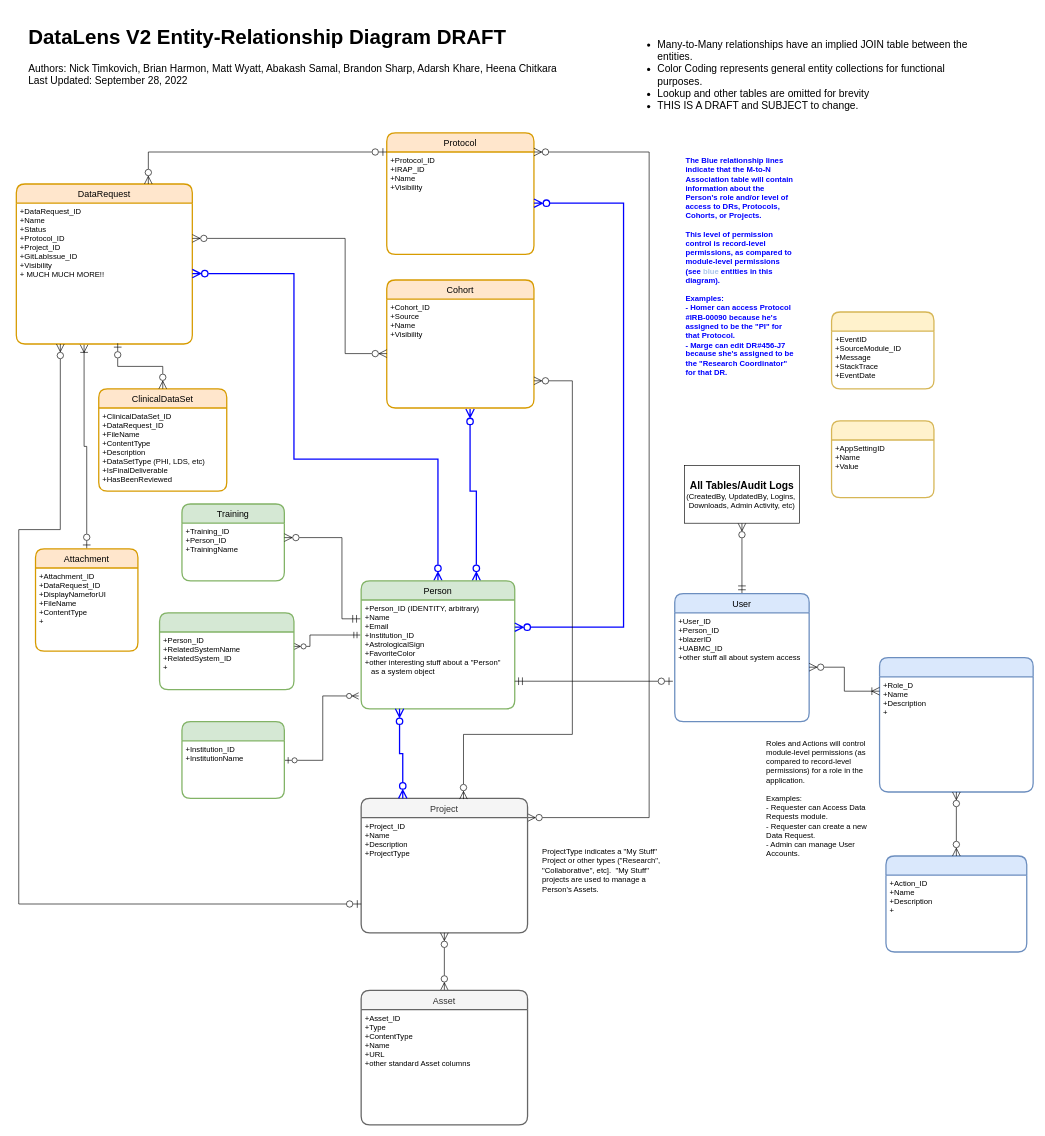
Image size: 1045x1136. Some labels were removed from this diagram. Each missing label, with the box of its shape:
Actions: (885, 855, 1027, 952)
AppSettings: (831, 420, 934, 498)
EventLog: (831, 311, 934, 389)
Institutions: (181, 721, 285, 799)
PersonKeys: (159, 612, 294, 690)
Roles: (879, 657, 1033, 792)
